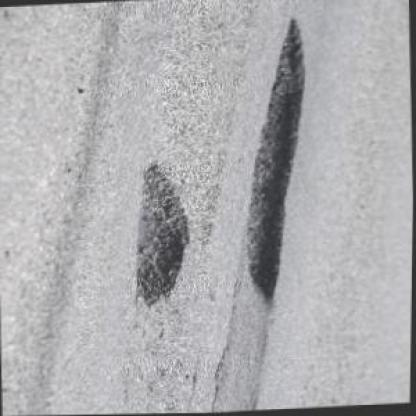pothole: (236, 15, 315, 308), (126, 161, 193, 308)
